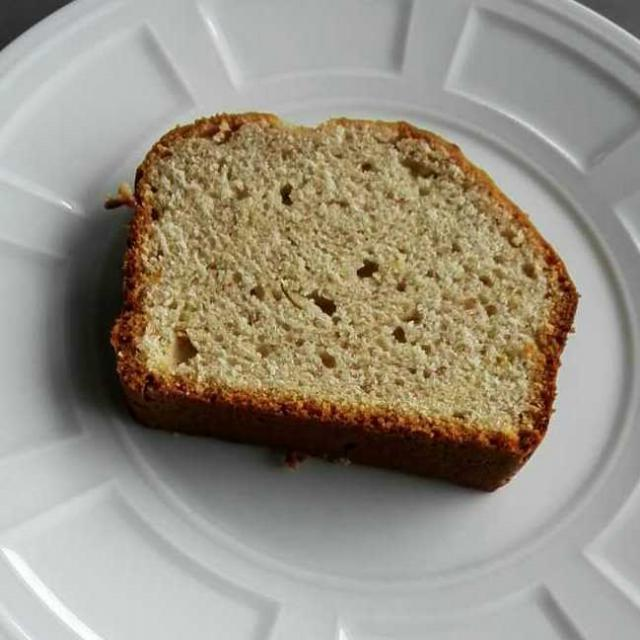cake: (119, 116, 569, 482)
